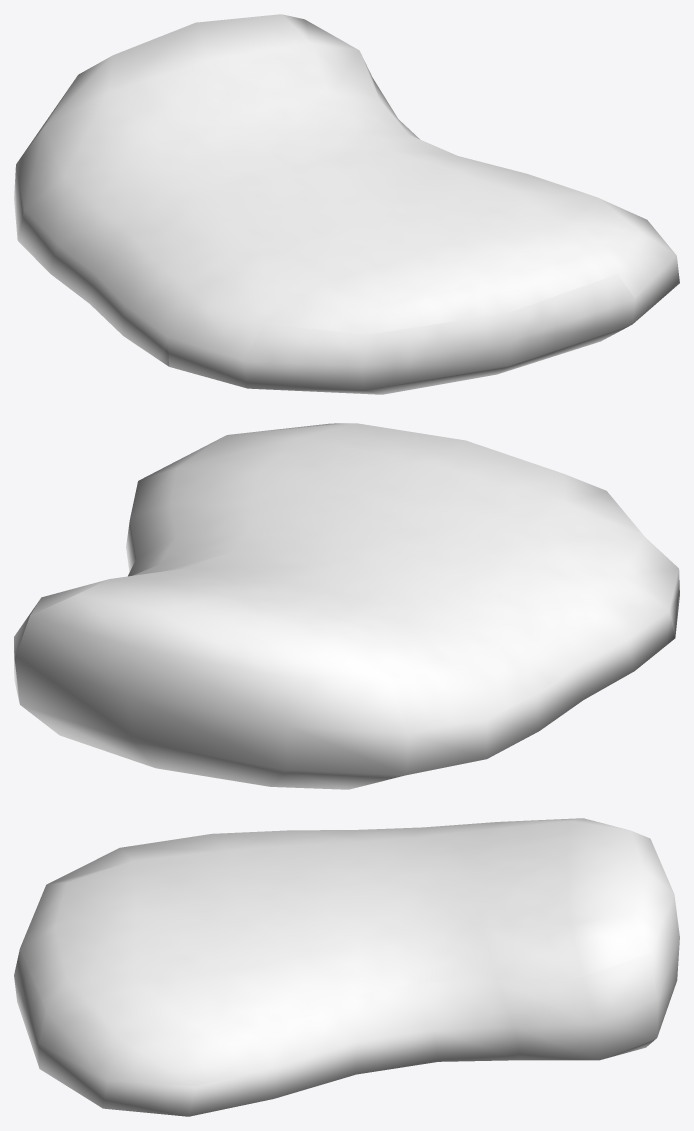
File: rock_small_b_00.obj
3 views of the same model, one above another, from view 1: azimuth 30°, elevation 25°; view 2: azimuth 150°, elevation 25°; view 3: azimuth 270°, elevation 25° (orthographic). The views are drawn at different scales.
Bounding box in the file's own units: 0.5013 × 0.1466 × 0.5693.
